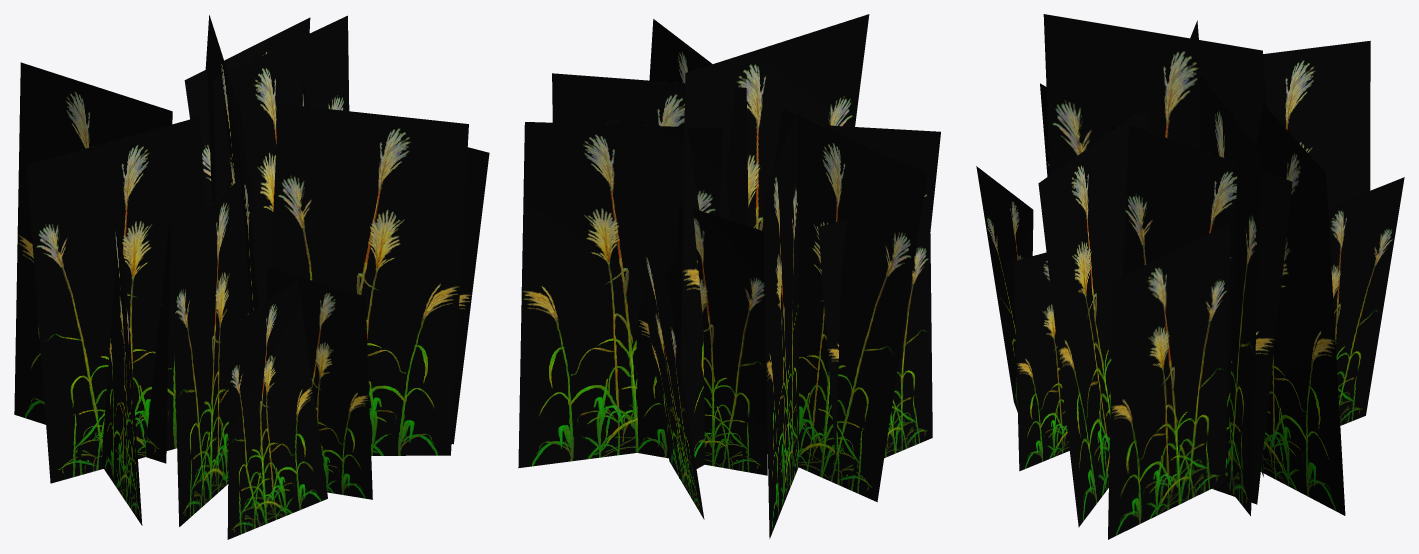
The model's file is caijiwu001.FBX.
3 renders of one model, left to right at view 1: azimuth 30°, elevation 25°; view 2: azimuth 150°, elevation 25°; view 3: azimuth 270°, elevation 25°, orthographic. The views are drawn at different scales.
Visible parts, largest first — view 1: Plane24, Plane17, Plane13, Plane11, Plane10, Plane16, Plane28, Plane26, Plane29, Plane25, Plane21; view 2: Plane21, Plane17, Plane29, Plane15, Plane10, Plane26, Plane16, Plane27, Plane11, Plane24; view 3: Plane25, Plane24, Plane29, Plane21, Plane20, Plane10, Plane27, Plane16, Plane28, Plane13.
Part boxes in pixels (<box>): Plane24: <box>270,103,468,455</box>; Plane17: <box>26,117,206,483</box>; Plane13: <box>227,280,327,539</box>; Plane11: <box>171,167,255,526</box>; Plane10: <box>14,62,172,463</box>; Plane16: <box>214,15,349,306</box>; Plane28: <box>266,267,372,499</box>; Plane26: <box>102,217,142,525</box>; Plane29: <box>205,15,258,312</box>; Plane25: <box>451,147,489,444</box>; Plane21: <box>184,17,310,208</box>; Plane21: <box>518,122,722,468</box>; Plane17: <box>773,109,927,502</box>; Plane29: <box>679,14,869,478</box>; Plane15: <box>636,204,767,475</box>; Plane10: <box>763,112,798,538</box>; Plane26: <box>818,195,932,461</box>; Plane16: <box>552,73,748,226</box>; Plane27: <box>633,228,704,519</box>; Plane11: <box>820,125,940,231</box>; Plane24: <box>649,19,712,83</box>; Plane25: <box>1108,223,1230,539</box>; Plane24: <box>1038,106,1148,527</box>; Plane29: <box>1043,14,1267,174</box>; Plane21: <box>1256,104,1345,515</box>; Plane20: <box>1123,125,1292,504</box>; Plane10: <box>1263,40,1370,207</box>; Plane27: <box>1328,177,1404,425</box>; Plane16: <box>1199,74,1261,515</box>; Plane28: <box>1014,252,1069,471</box>; Plane13: <box>976,166,1033,412</box>.
Bounding box in the file's own units: 9.18 × 8.66 × 8.19.
